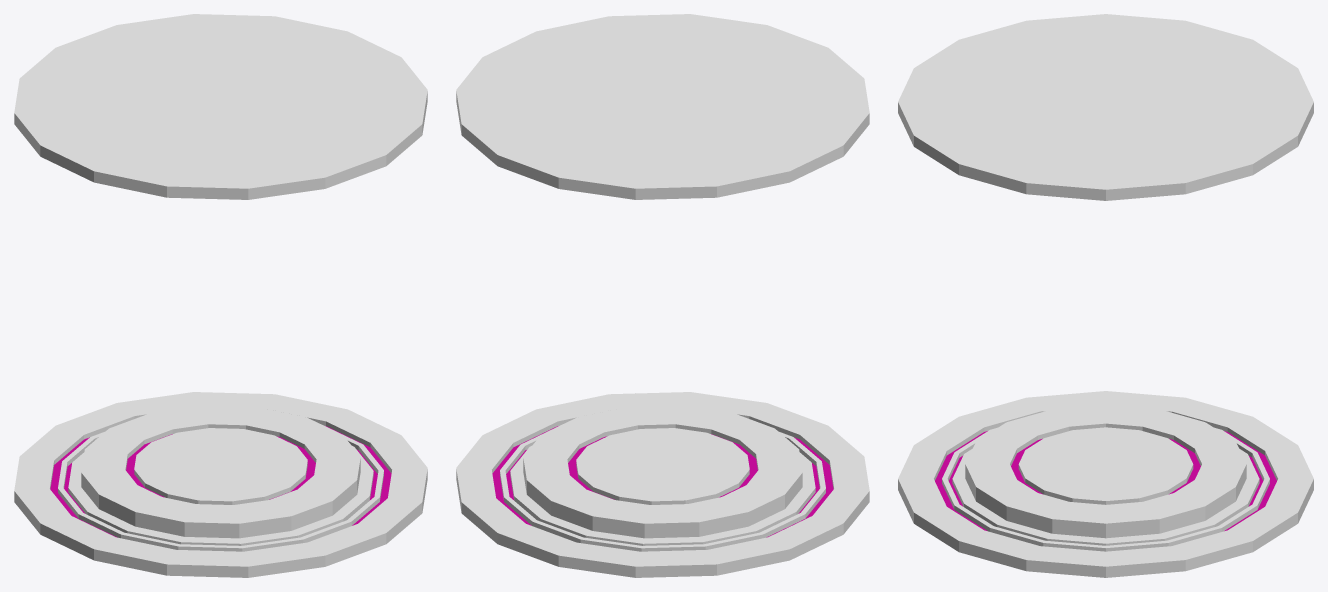
Rendered from Teleporter.fbx.
3 renders of one model, left to right at view 1: azimuth 30°, elevation 25°; view 2: azimuth 150°, elevation 25°; view 3: azimuth 270°, elevation 25°, orthographic.
Visible parts, largest first — view 1: Cylinder, Cylinder.001; view 2: Cylinder, Cylinder.001; view 3: Cylinder, Cylinder.001.
Part boxes in pixels (<box>): Cylinder: <box>14,392,427,577</box>; Cylinder.001: <box>14,14,427,199</box>; Cylinder: <box>456,392,869,577</box>; Cylinder.001: <box>456,14,869,199</box>; Cylinder: <box>898,391,1313,577</box>; Cylinder.001: <box>898,14,1313,200</box>.
Bounding box in the file's own units: 200 × 206 × 200.
